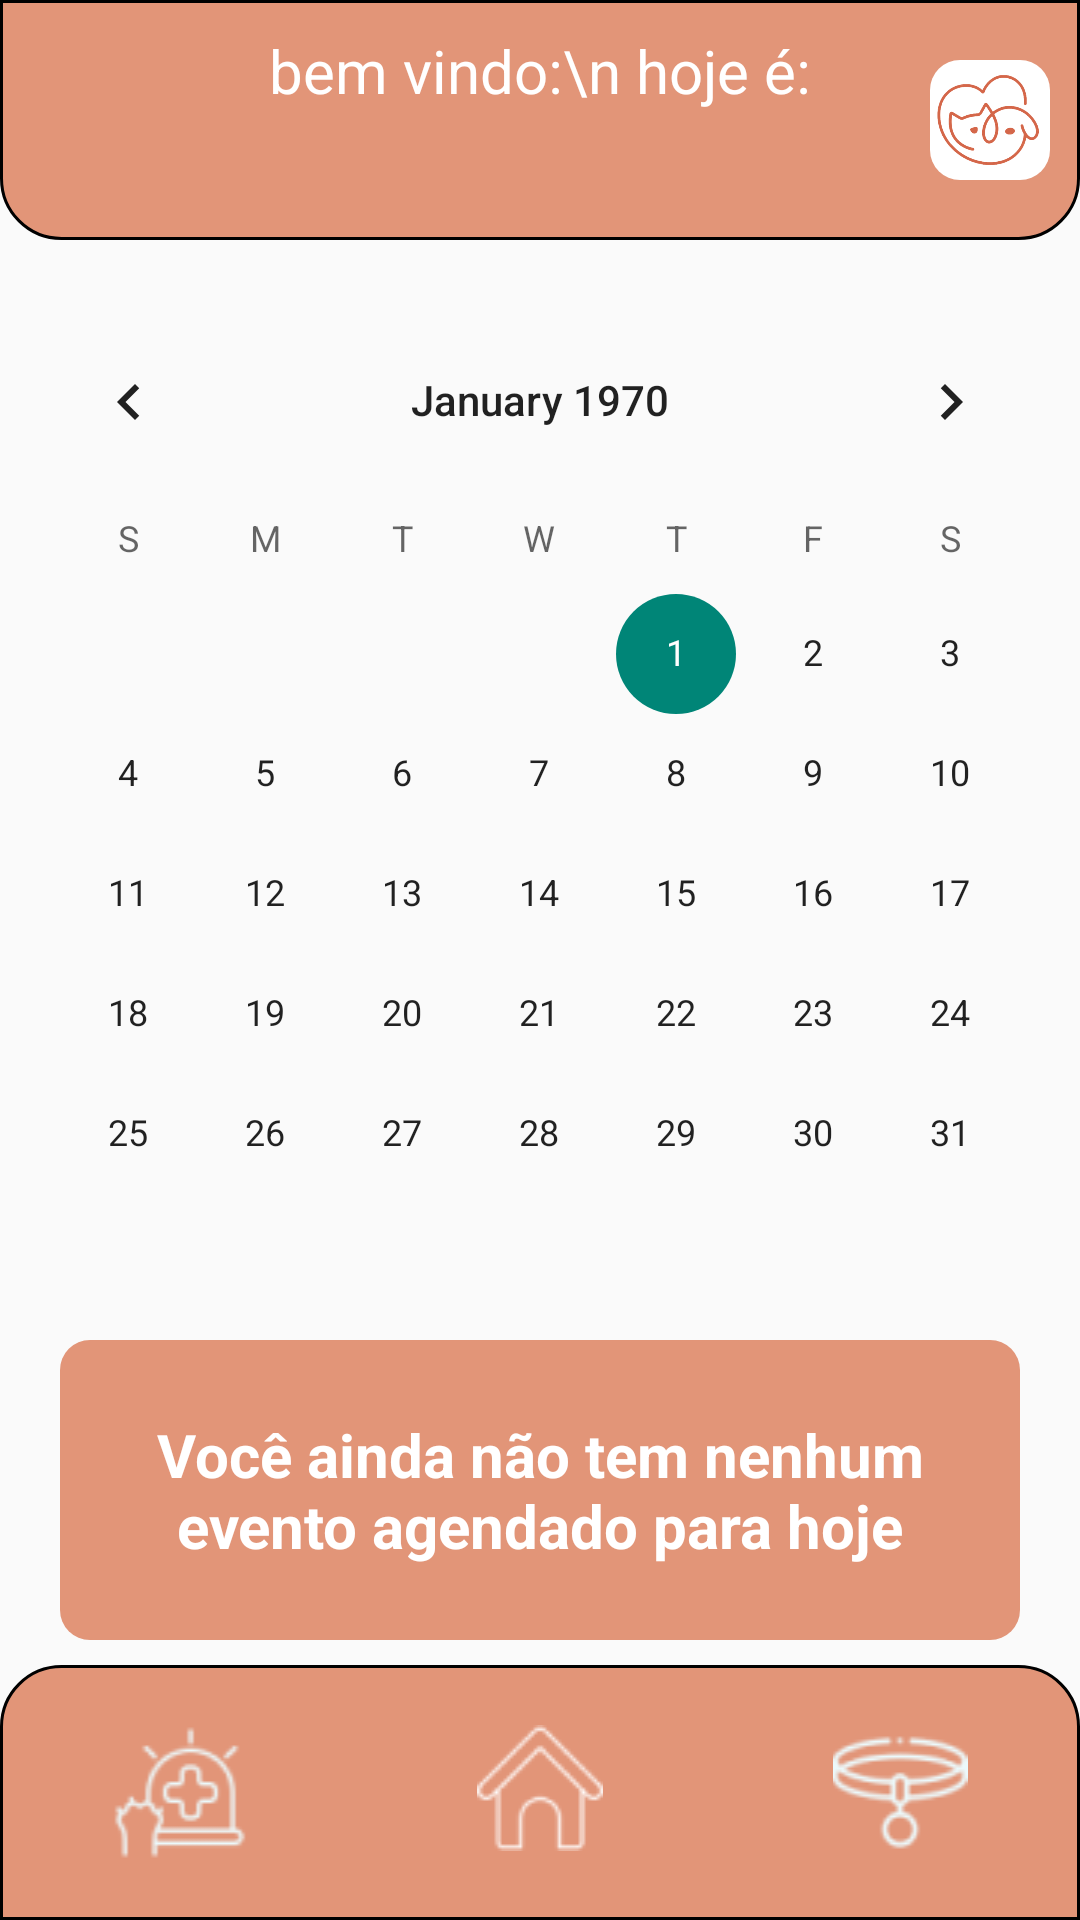

Icon click points for this 1080 x 1920 phone screenshot, format [x,y]:
dog collar: [900,1793]
house: [540,1788]
pet recovery: [180,1792]
